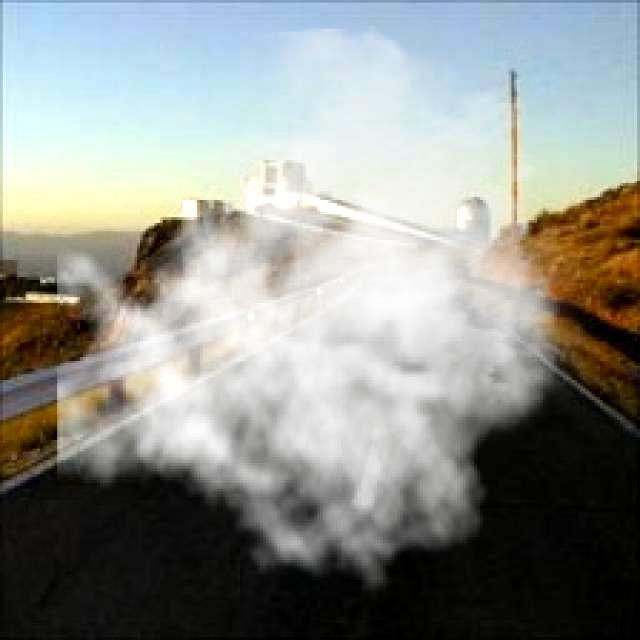Smoke: (57, 26, 612, 594)
